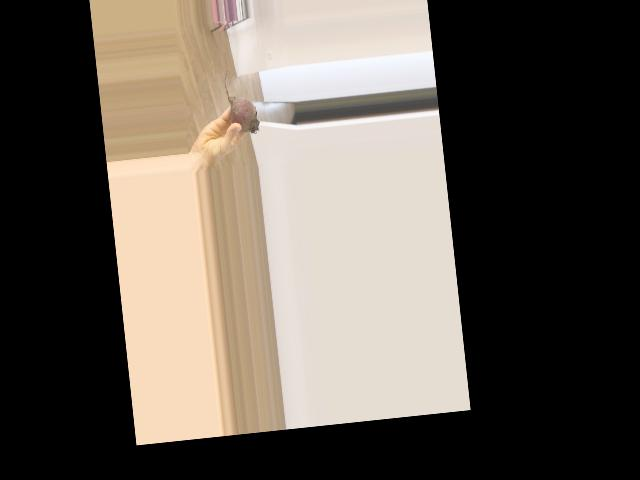beet: (223, 67, 260, 135)
